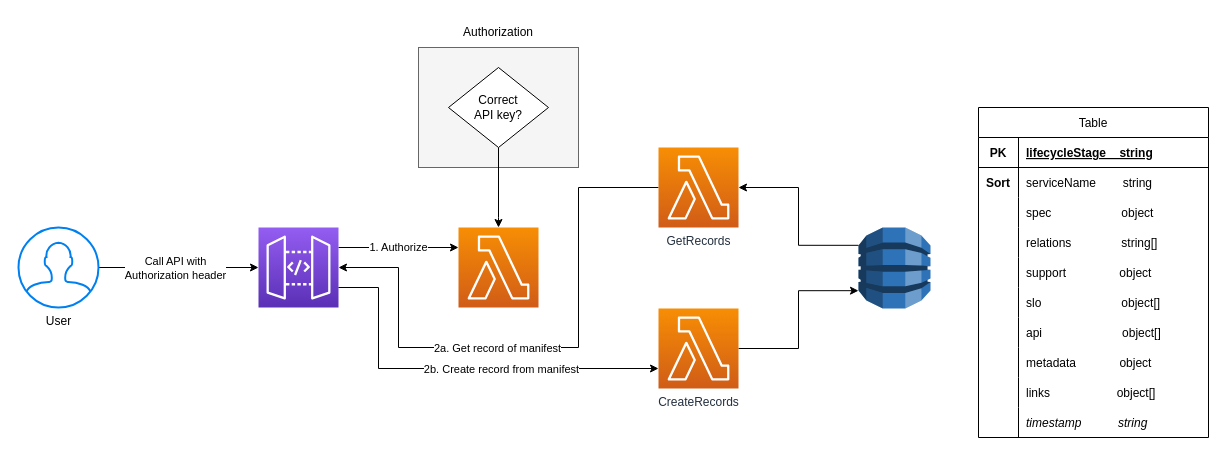
This 1226x455 diagram has some shape labels left out. Each missing label, with the centre of its shape:
"API Gateway" goes at pixel 298 267.
"Authorizer" goes at pixel 498 267.
"Catalogist table" goes at pixel 894 267.
